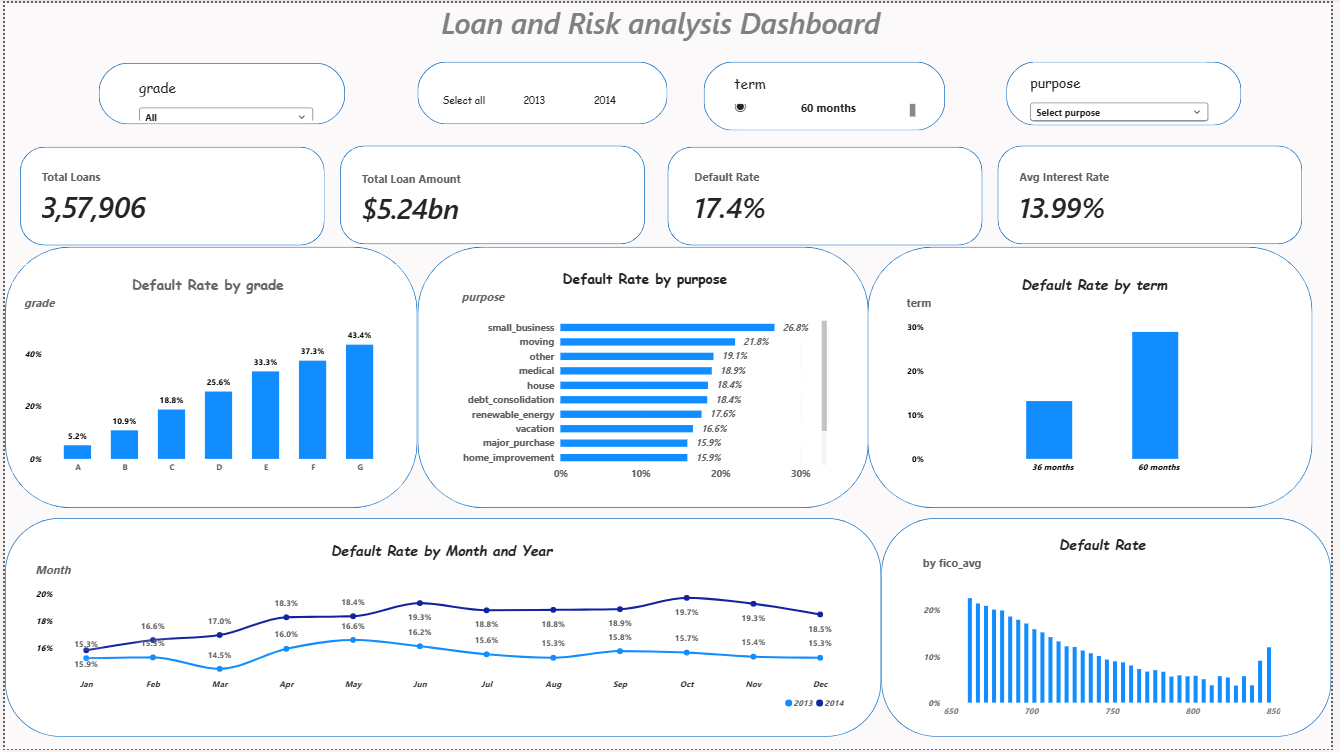

Layout of this report page (visuals, bound fields, positions):
{"tool":"powerbi","page":{"name":"Page 1","canvas":[1920,1080],"ordinal":0},"visuals":[{"type":"shape","box":[485,206.3,441.6,143],"z":0},{"type":"shape","box":[959.1,208.1,456,143],"z":1000},{"type":"shape","box":[1436.9,206.3,441.1,142.9],"z":2000},{"type":"shape","box":[21.7,208.1,441.1,142.9],"z":3000},{"type":"cardVisual","fields":{"Data":["Measure.Total Loan Amount"]},"box":[497.7,220.8,416.2,114],"z":4000},{"type":"cardVisual","fields":{"Data":["Measure.Total Loans"]},"box":[34.4,219,416.2,114],"z":5000},{"type":"cardVisual","fields":{"Data":["Measure.Default Rate"]},"box":[979,219,416.2,114],"z":6000},{"type":"cardVisual","fields":{"Data":["Measure.Avg Interest Rate"]},"box":[1449.5,219,416.2,114],"z":7000},{"type":"shape","box":[597.2,85.1,361.9,90.5],"z":8000},{"type":"advancedSlicerVisual","fields":{"Values":["Calendar.Year"]},"box":[597.2,110.4,338.4,63.3],"z":9000},{"type":"shape","box":[135.7,86.9,356.5,88.7],"z":10000},{"type":"shape","box":[1449.5,85.1,340.2,92.3],"z":11000},{"type":"listSlicer","fields":{"Values":["loans.grade"]},"box":[177.3,92.3,285.9,81.4],"z":12000},{"type":"shape","box":[1011.6,85.1,349.3,99.5],"z":13000},{"type":"listSlicer","fields":{"Values":["loans.term"]},"box":[1038.7,86.9,296.8,95.9],"z":14000},{"type":"listSlicer","fields":{"Values":["loans.purpose"]},"box":[1467.6,85.1,291.4,88.7],"z":15000},{"type":"shape","box":[0,352.9,597.2,378.2],"z":16000},{"type":"shape","box":[597.2,352.9,653.3,378.2],"z":17000},{"type":"shape","box":[1248.7,352.9,644.2,378.2],"z":18000},{"type":"clusteredColumnChart","fields":{"Category":["loans.grade"],"Y":["Measure.Default Rate"]},"box":[10.9,378.2,564,324],"z":19000},{"type":"clusteredBarChart","fields":{"Category":["loans.purpose"],"Y":["Measure.Default Rate"]},"box":[644.2,369.2,562.8,343.8],"z":20000},{"type":"columnChart","fields":{"Category":["loans.term"],"Y":["Measure.Default Rate"]},"box":[1288.5,378.2,575.5,323.9],"z":21000},{"type":"shape","box":[0,745.6,1268.6,316.7],"z":22000},{"type":"lineChart","fields":{"Category":["Calendar.Month"],"Series":["Calendar.Year"],"Y":["Measure.Default Rate"]},"box":[27.1,763.7,1208.9,280.5],"z":23000},{"type":"shape","box":[1268.6,745.6,651.5,316.7],"z":24000},{"type":"clusteredColumnChart","fields":{"Category":["loans.fico_avg"],"Y":["Measure.Default Rate"]},"box":[1312,754.6,551.9,300.4],"z":24001},{"type":"textbox","title":"Loan and Risk analysis Dashboard","box":[629.8,0,638.8,68.8],"z":24002}]}

Visuals, with their boxes in screenshot pixels (x1, y1, x2, y2), scaled from the page's 1920x1080 canvas onto the 1340x752 screenshot:
shape: [338,144,647,243]
shape: [669,145,988,244]
shape: [1003,144,1311,243]
shape: [15,145,323,244]
cardVisual - Measure.Total Loan Amount: [347,154,638,233]
cardVisual - Measure.Total Loans: [24,152,314,232]
cardVisual - Measure.Default Rate: [683,152,974,232]
cardVisual - Measure.Avg Interest Rate: [1012,152,1302,232]
shape: [417,59,669,122]
advancedSlicerVisual - Calendar.Year: [417,77,653,121]
shape: [95,61,344,122]
shape: [1012,59,1249,124]
listSlicer - loans.grade: [124,64,323,121]
shape: [706,59,950,129]
listSlicer - loans.term: [725,61,932,127]
listSlicer - loans.purpose: [1024,59,1228,121]
shape: [0,246,417,509]
shape: [417,246,873,509]
shape: [871,246,1321,509]
clusteredColumnChart - loans.grade x Measure.Default Rate: [8,263,401,489]
clusteredBarChart - loans.purpose x Measure.Default Rate: [450,257,842,496]
columnChart - loans.term x Measure.Default Rate: [899,263,1301,489]
shape: [0,519,885,740]
lineChart - Calendar.Month x Calendar.Year: [19,532,863,727]
shape: [885,519,1339,740]
clusteredColumnChart - loans.fico_avg x Measure.Default Rate: [916,525,1301,735]
"Loan and Risk analysis Dashboard" textbox: [440,0,885,48]
